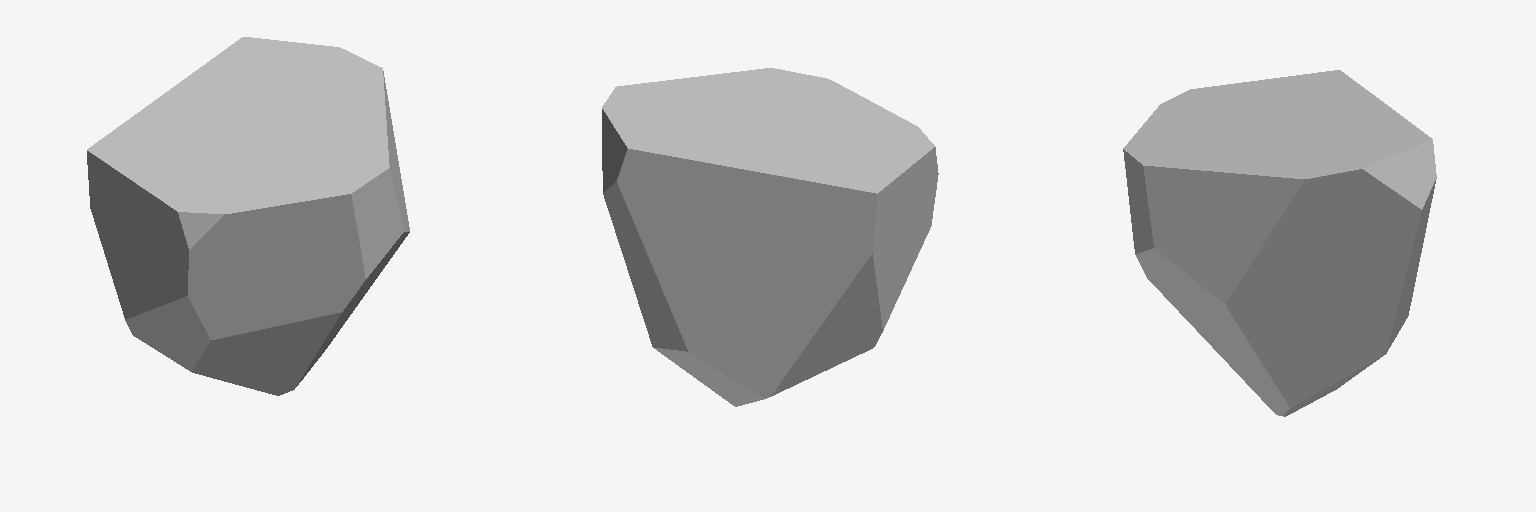
File: rock02.obj
3 views of the same model, side by side, from view 1: azimuth 30°, elevation 25°; view 2: azimuth 150°, elevation 25°; view 3: azimuth 270°, elevation 25° (orthographic).
Parts seen in each view (by area): view 1: Cube.002_Cube.004; view 2: Cube.002_Cube.004; view 3: Cube.002_Cube.004.
Boxes of the visible parts, x1=… form: Cube.002_Cube.004: x1=87, y1=37, x2=409, y2=395; Cube.002_Cube.004: x1=602, y1=68, x2=938, y2=406; Cube.002_Cube.004: x1=1123, y1=70, x2=1436, y2=416.
Size of the model in its own units: 17.07 by 17.31 by 16.61.